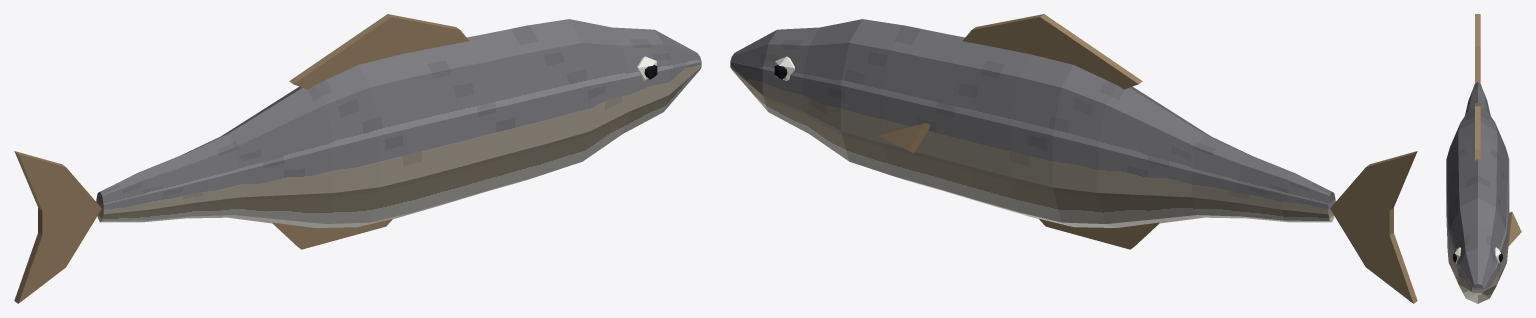
The model's file is mulloway.glb.
3 renders of one model, left to right at view 1: azimuth 30°, elevation 25°; view 2: azimuth 150°, elevation 25°; view 3: azimuth 270°, elevation 25°, orthographic. The views are drawn at different scales.
Visible parts, largest first — view 1: fish_mulloway; view 2: fish_mulloway; view 3: fish_mulloway.
Boxes of the visible parts, x1=… form: fish_mulloway: x1=14, y1=14, x2=701, y2=303; fish_mulloway: x1=730, y1=14, x2=1417, y2=303; fish_mulloway: x1=1446, y1=14, x2=1521, y2=303.
Bounding box in the file's own units: 1.14 × 0.337 × 0.1619.
4 materials, 1 textured.
